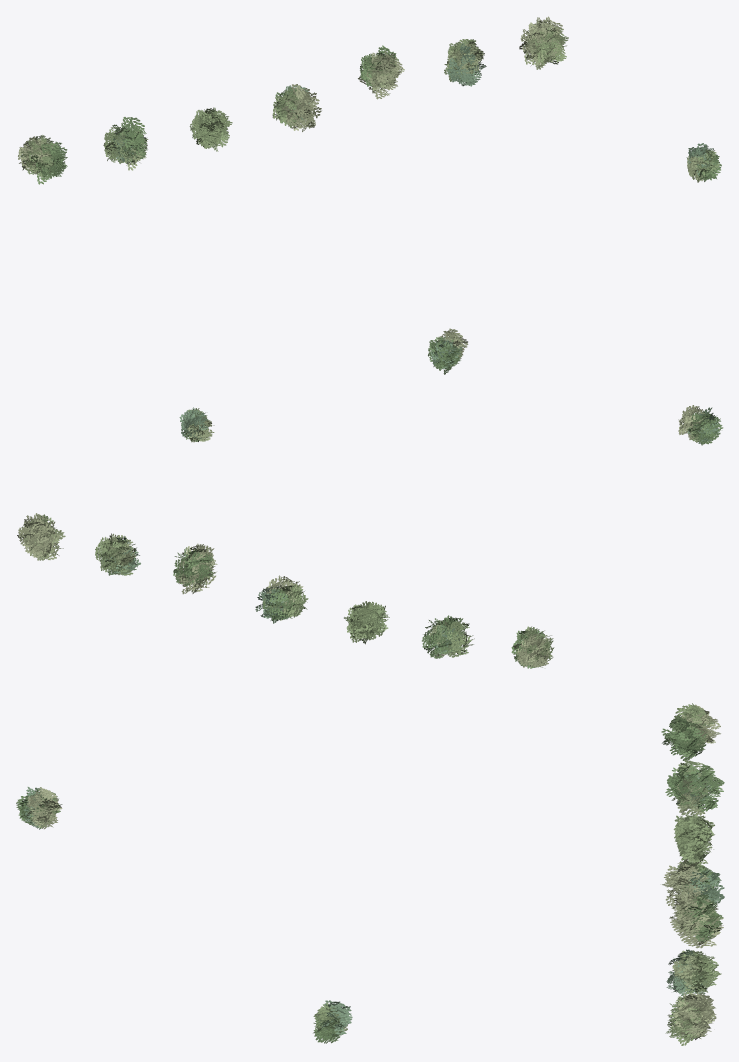
The model's file is campus-tree--5_-4-middle.glb.
3 renders of one model, top to bottom at view 1: azimuth 30°, elevation 25°; view 2: azimuth 150°, elevation 25°; view 3: azimuth 270°, elevation 25°, orthographic. The views are drawn at different scales.
Parts seen in each view (by area): view 1: Campus leaf canopy; view 2: Campus leaf canopy; view 3: Campus leaf canopy.
Part boxes in pixels (box(x1,y1,x2,y2)): Campus leaf canopy: box(18, 16, 721, 374); Campus leaf canopy: box(17, 405, 723, 668); Campus leaf canopy: box(16, 703, 724, 1045).
Size of the model in its own units: 72.64 by 7.91 by 72.54.
Materials: 1 (1 with a texture image).
